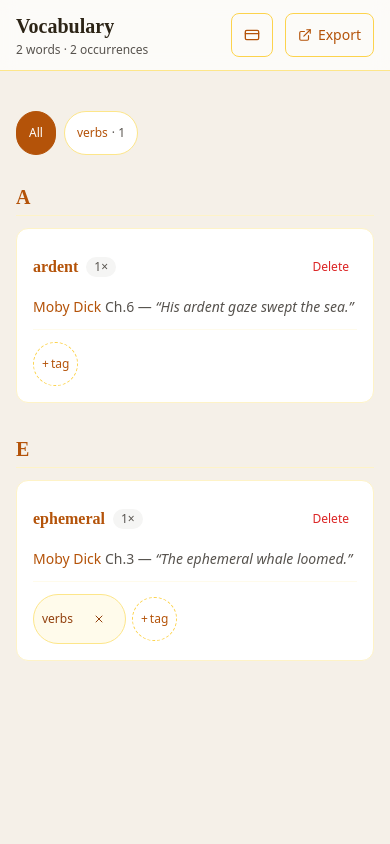
Test: clicking 'All' clears an active tag filter
Expected: the button "ephemeral" is shown, [33,497,105,541]
Click the button with test id "tag-filter-verbs" at (101, 133), box [64,111,138,155]
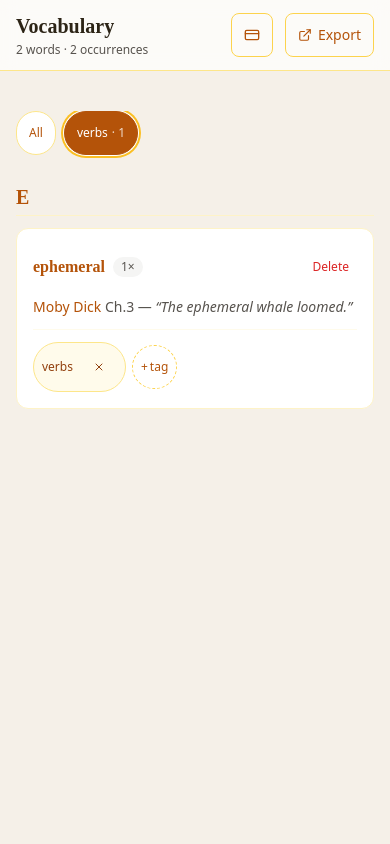
Expected: the button "ardent" is gone
Click the button with test id "tag-filter-all" at (36, 133), box [16,111,56,155]
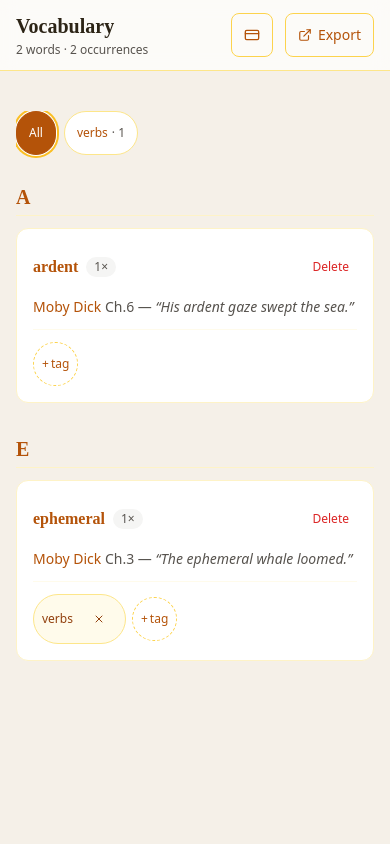
Expected: the button "ephemeral" is shown, [33,497,105,541]
Expected: the button "ardent" is shown, [33,245,78,289]
